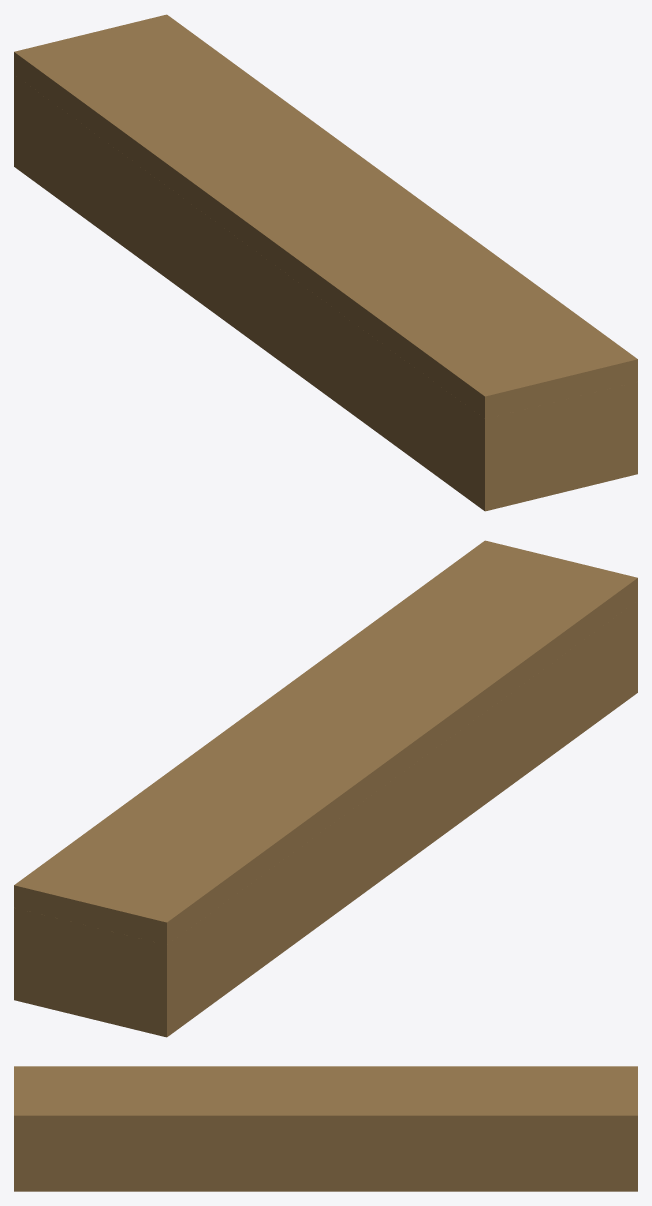
The model's file is BoxClose.fbx.
3 renders of one model, top to bottom at view 1: azimuth 30°, elevation 25°; view 2: azimuth 150°, elevation 25°; view 3: azimuth 270°, elevation 25°, orthographic. The views are drawn at different scales.
Parts seen in each view (by area): view 1: Cube.008; view 2: Cube.008; view 3: Cube.008.
Boxes of the visible parts, x1,y1,x2,y2 form: Cube.008: [14, 14, 637, 511]; Cube.008: [14, 540, 637, 1037]; Cube.008: [14, 1066, 637, 1191].
Size of the model in its own units: 6 by 4.31 by 32.
